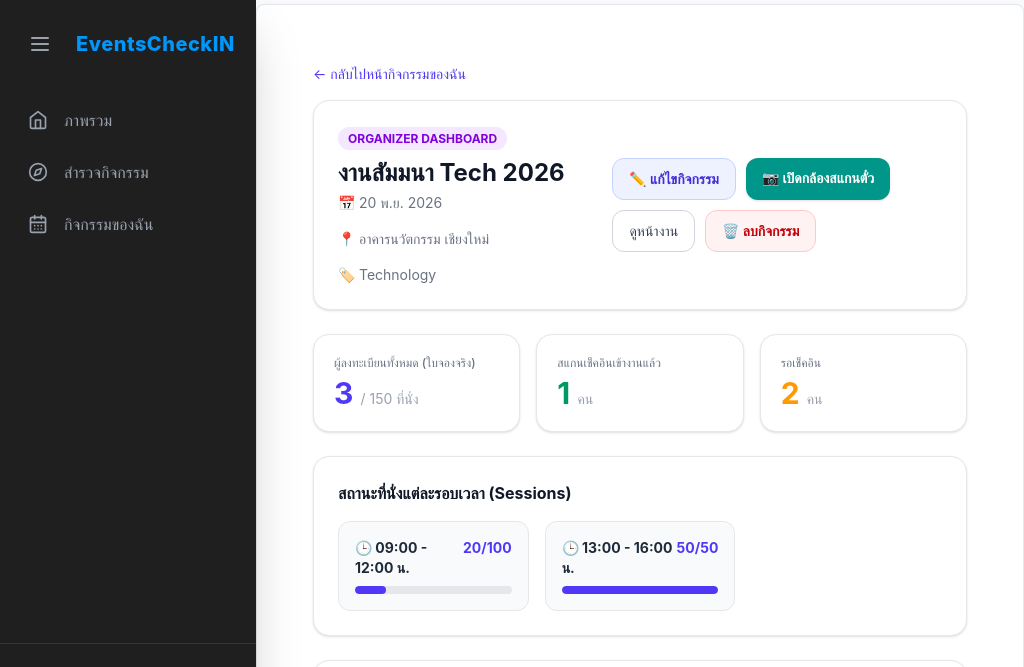
it: Organizer dashboard (delete event) › ลบไม่สำเร็จ → แสดงข้อความผิดพลาดและยังอยู่หน้าเดิม
The image size is (1024, 667).
Click the button "🗑️ ลบกิจกรรม": (761, 231) [705,210,816,252]
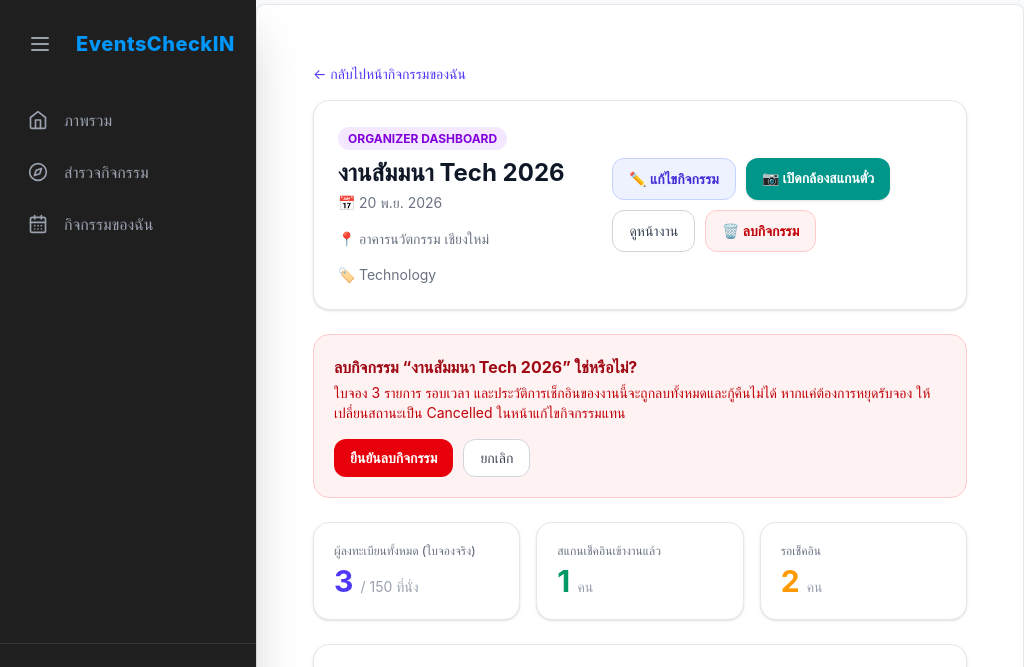
Click the button "ยืนยันลบกิจกรรม": (394, 458) [334,439,453,477]
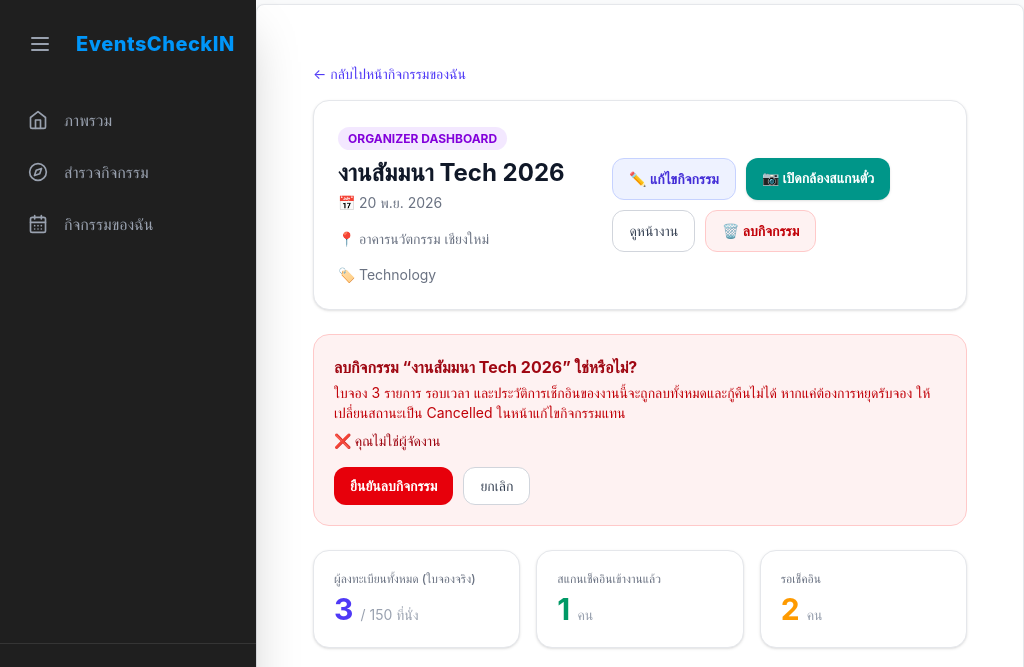
expect the text "❌ คุณไม่ใช่ผู้จัดงาน" is shown: met, box [334,432,440,449]
